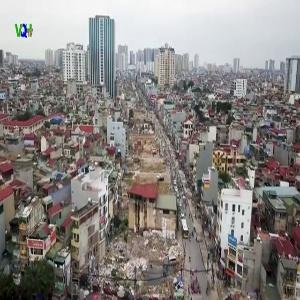drone: (158, 76, 237, 155)
